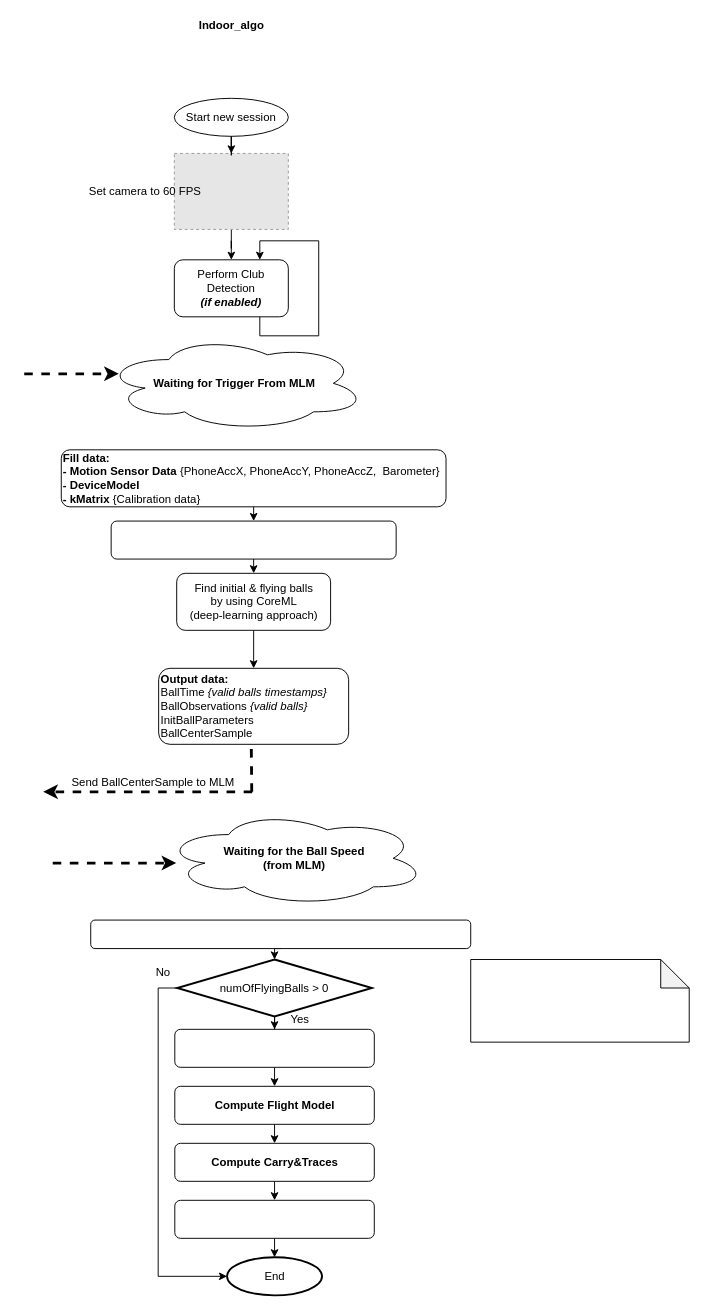
Some shapes in this 706 by 1312 pixel diagram are drawn without their labels. Grey dashed boxes stand in for pictures. Here are the shapes that lost their labels. From the top down, the box of each, then its label:
(110, 520, 396, 559): Fill Image Buffer&TimeStamps
(90, 919, 471, 949): InputRadarData {ballSpeed, clubSpeed}
(470, 959, 689, 1042): to perform calculation, at least 1 flying ball + initial ball are needed
(174, 1028, 374, 1067): Calculate LAngle&LDirection
(174, 1199, 374, 1238): Generate golfResult.json
